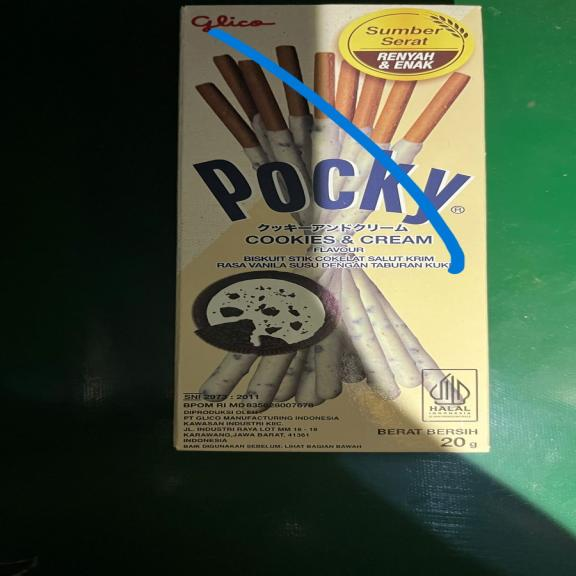Kertas: (181, 4, 488, 451)
